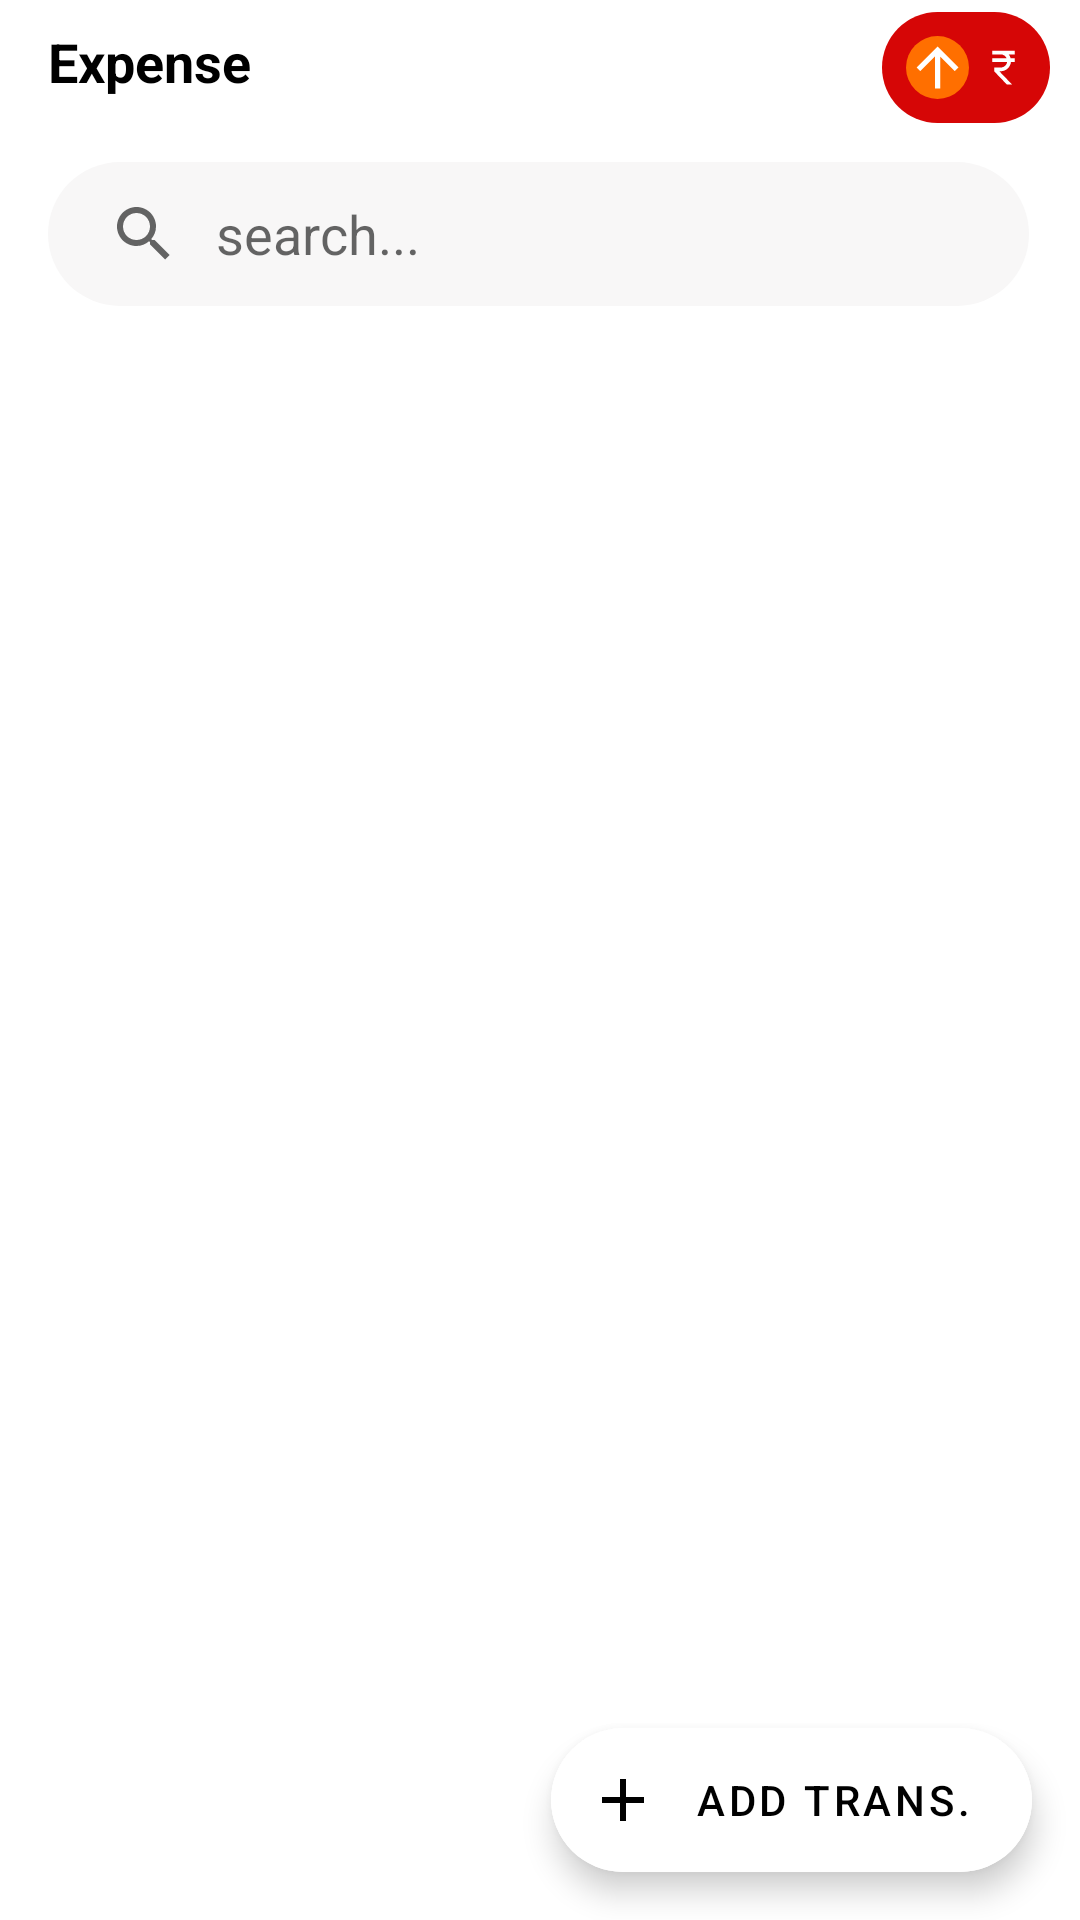

Icon click points for this 1080×1920 phone screenshot, format (x=x, y=y):
rupees: (x=1003, y=67)
uparrow: (x=937, y=67)
